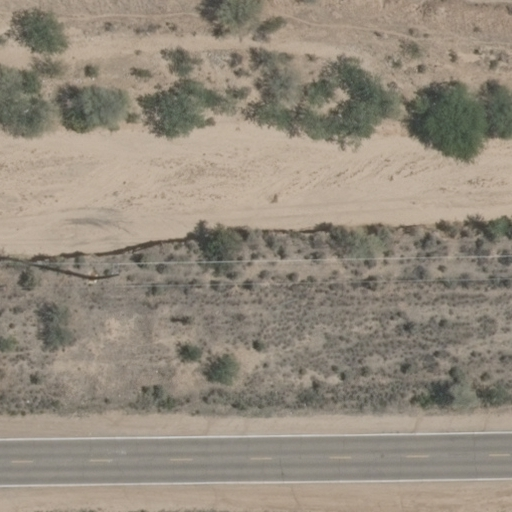DT: (83, 255, 130, 289)
